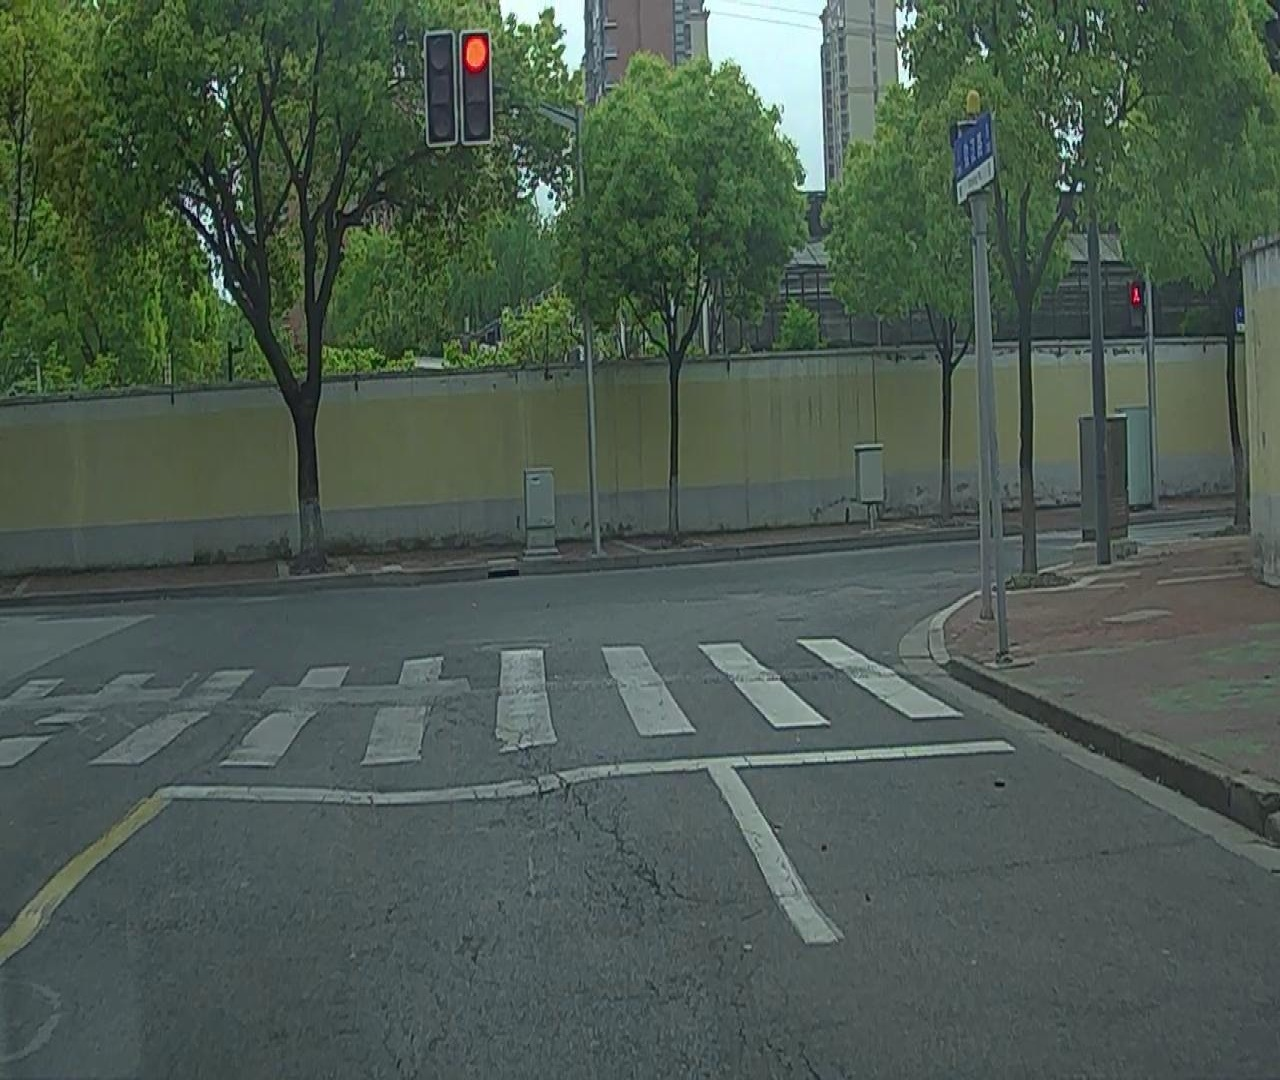yellow: (461, 33, 490, 142)
